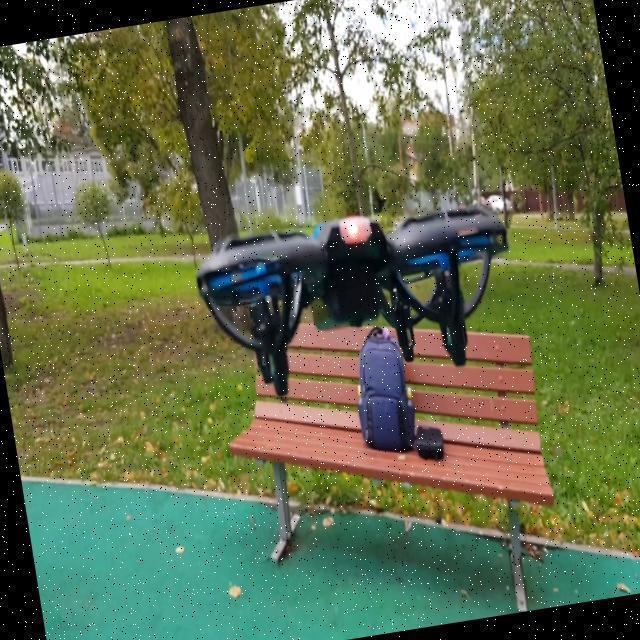Drons: (180, 182, 536, 420)
